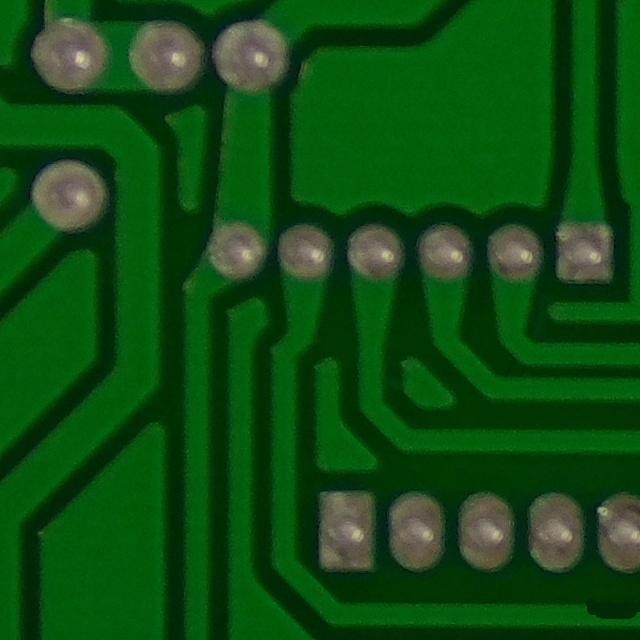mouse_bite: (569, 584, 640, 634)
